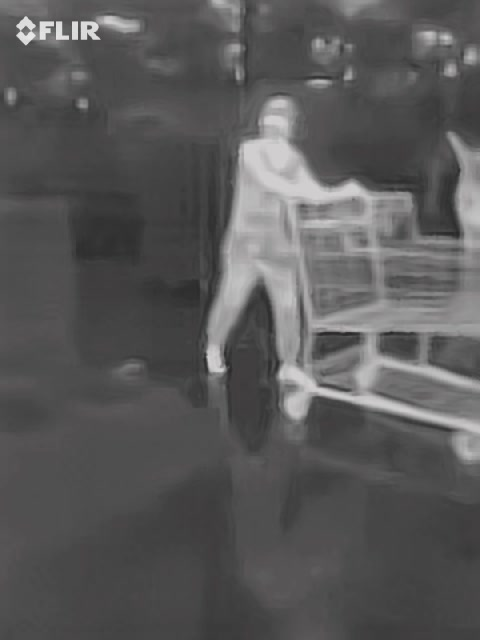head: (259, 95, 304, 142)
